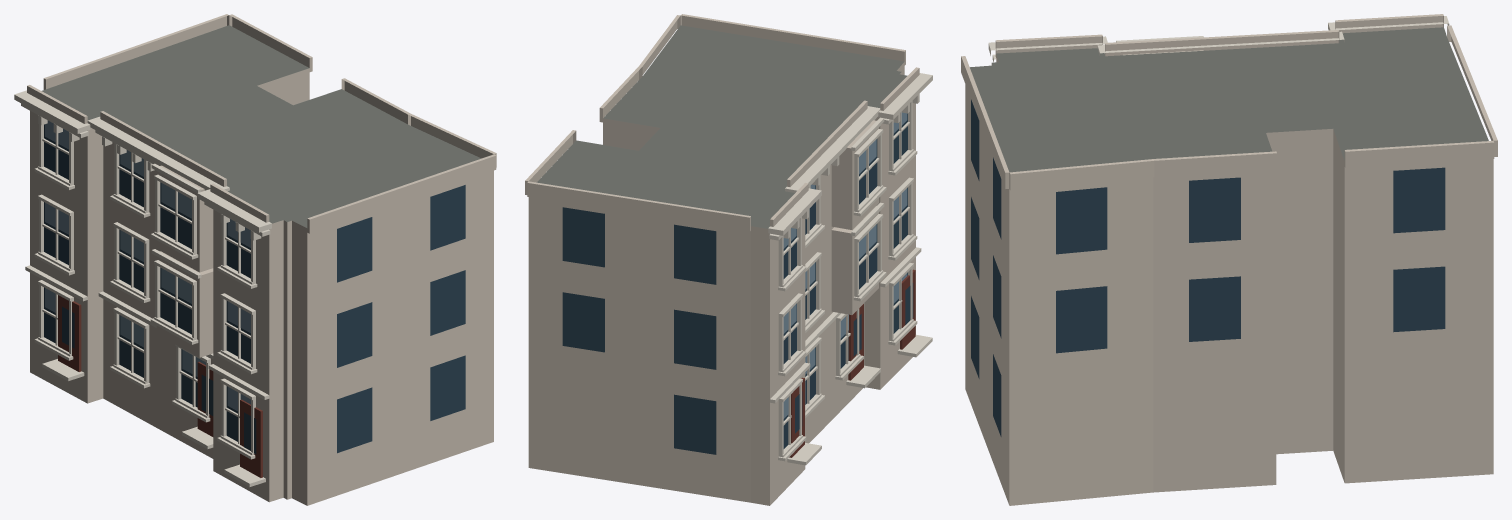
3 renders of one model, left to right at view 1: azimuth 30°, elevation 25°; view 2: azimuth 150°, elevation 25°; view 3: azimuth 270°, elevation 25°, orthographic. The views are drawn at different scales.
Parts seen in each view (by area): view 1: Footprint 0 / surface 2, Footprint 0 / surface 1, Cornices and window frames, Inset glazing, Facade bay volumes, Sky reflection panels, Storefronts and doors; view 2: Footprint 0 / surface 2, Footprint 0 / surface 1, Cornices and window frames, Inset glazing, Facade bay volumes, Sky reflection panels, Storefronts and doors; view 3: Footprint 0 / surface 2, Footprint 0 / surface 1, Inset glazing, Facade bay volumes, Cornices and window frames.
Part boxes in pixels (left/top/right/bottom): Footprint 0 / surface 2: left=30, top=68, right=493, bottom=505; Footprint 0 / surface 1: left=42, top=25, right=481, bottom=227; Cornices and window frames: left=14, top=90, right=271, bottom=486; Inset glazing: left=44, top=124, right=465, bottom=454; Facade bay volumes: left=27, top=14, right=496, bottom=357; Sky reflection panels: left=45, top=120, right=250, bottom=411; Storefronts and doors: left=58, top=295, right=262, bottom=477; Footprint 0 / surface 2: left=528, top=62, right=915, bottom=505; Footprint 0 / surface 1: left=537, top=25, right=907, bottom=228; Cornices and window frames: left=768, top=73, right=932, bottom=465; Inset glazing: left=562, top=113, right=913, bottom=454; Facade bay volumes: left=525, top=14, right=919, bottom=314; Sky reflection panels: left=783, top=112, right=907, bottom=418; Storefronts and doors: left=789, top=269, right=915, bottom=457; Footprint 0 / surface 2: left=965, top=42, right=1493, bottom=505; Footprint 0 / surface 1: left=970, top=27, right=1488, bottom=172; Inset glazing: left=971, top=99, right=1445, bottom=436; Facade bay volumes: left=961, top=14, right=1497, bottom=190; Cornices and window frames: left=988, top=16, right=1449, bottom=62.
Bounding box in the file's own units: 10.88 × 10.15 × 14.8.
